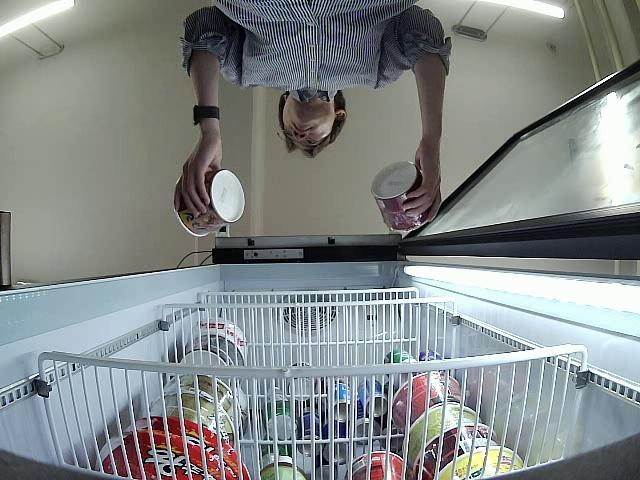00_hand: (175, 128, 223, 218), (398, 135, 440, 226)
05_nuguri_L: (175, 168, 245, 238), (372, 160, 430, 232)
